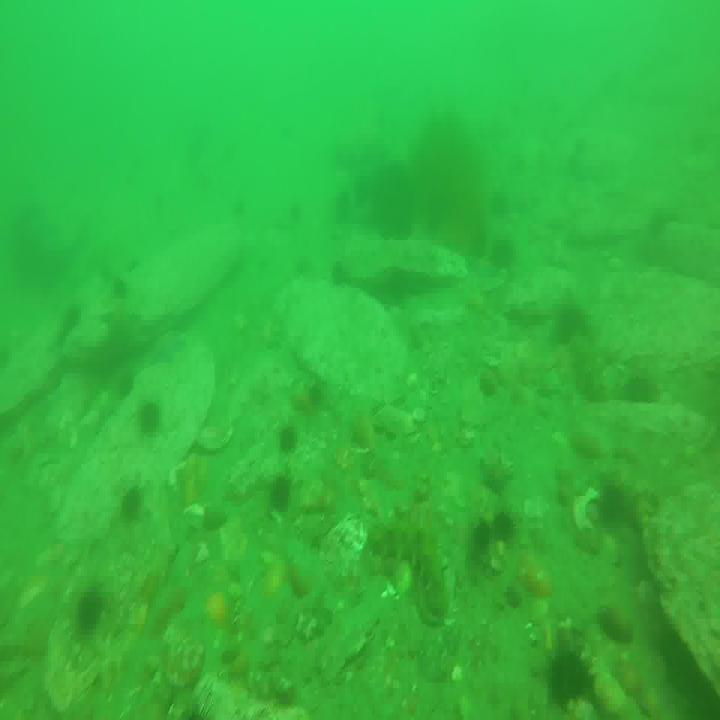echinus: (548, 650, 594, 710), (629, 366, 657, 410), (78, 587, 104, 631), (272, 471, 292, 521), (489, 231, 512, 272), (491, 508, 514, 547), (142, 400, 166, 436), (124, 481, 144, 520), (116, 366, 134, 402), (112, 270, 128, 307), (284, 422, 298, 457)
holothurian: (372, 510, 446, 618)
starfish: (150, 328, 187, 365)
